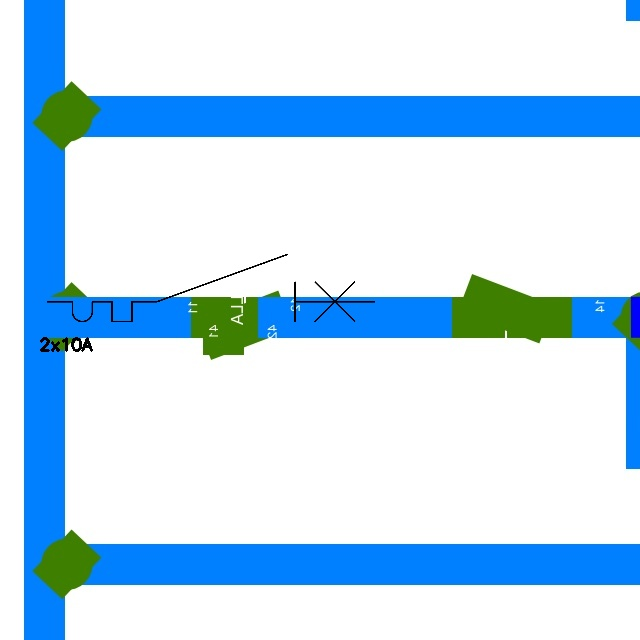interruptor_termomagnetico: (39, 246, 383, 330)
